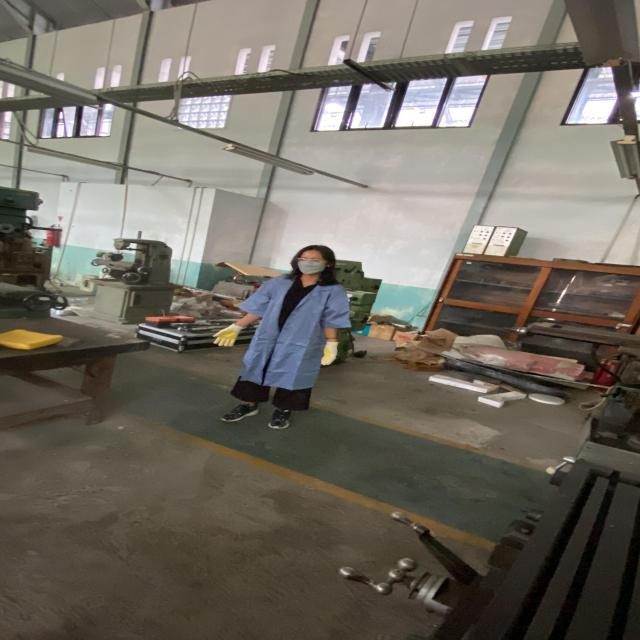glasses: (294, 256, 330, 264)
